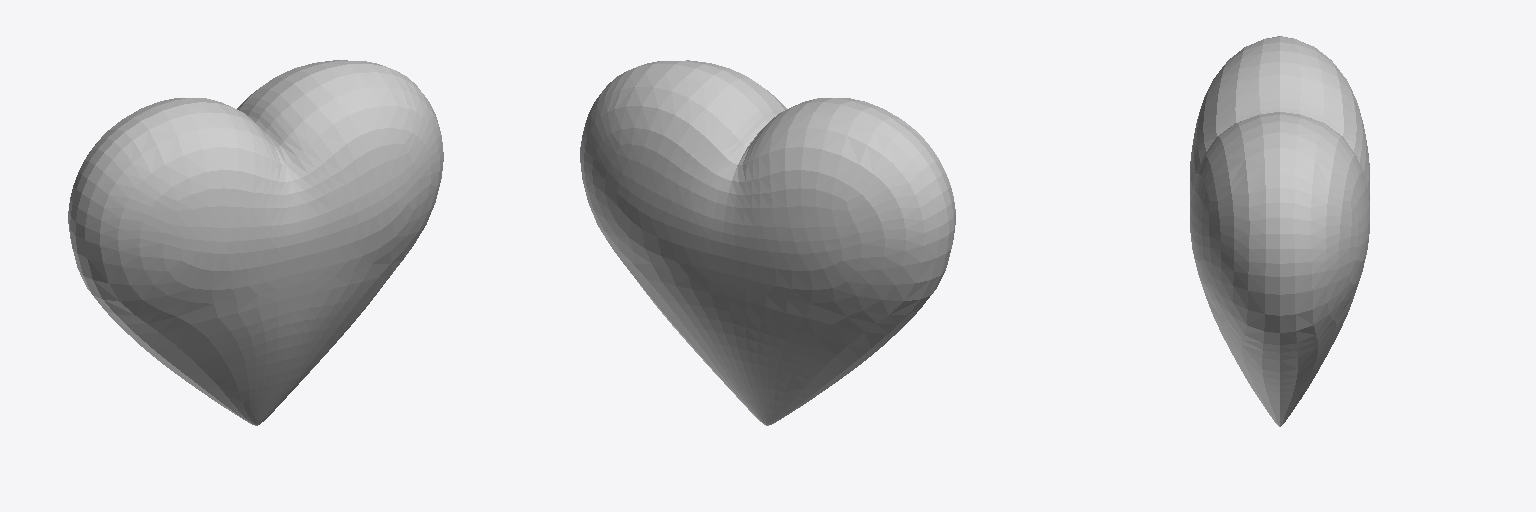
The model's file is Heart.obj.
3 renders of one model, left to right at view 1: azimuth 30°, elevation 25°; view 2: azimuth 150°, elevation 25°; view 3: azimuth 270°, elevation 25°, orthographic.
Visible parts, largest first — view 1: node_id130; view 2: node_id130; view 3: node_id130.
Part boxes in pixels (x1,y1,x2,y2): node_id130: (68, 60, 443, 425); node_id130: (580, 60, 955, 425); node_id130: (1190, 36, 1369, 426).
Bounding box in the file's own units: 4.03 × 3.63 × 1.75.